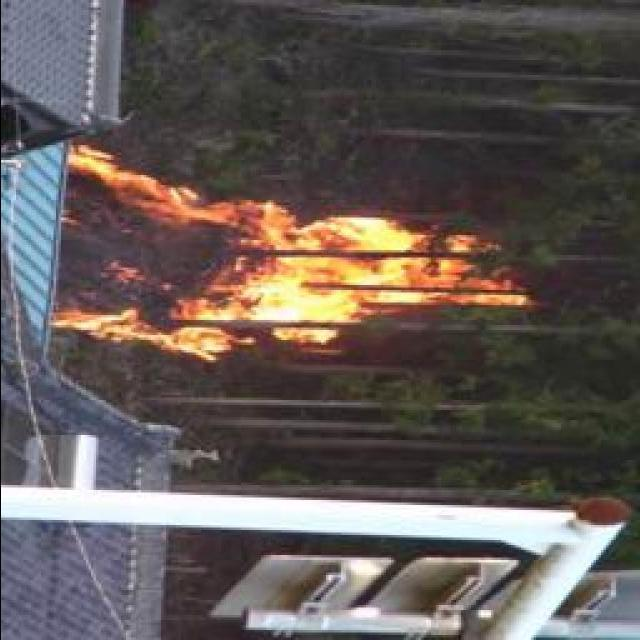Fire: (49, 148, 523, 360)
